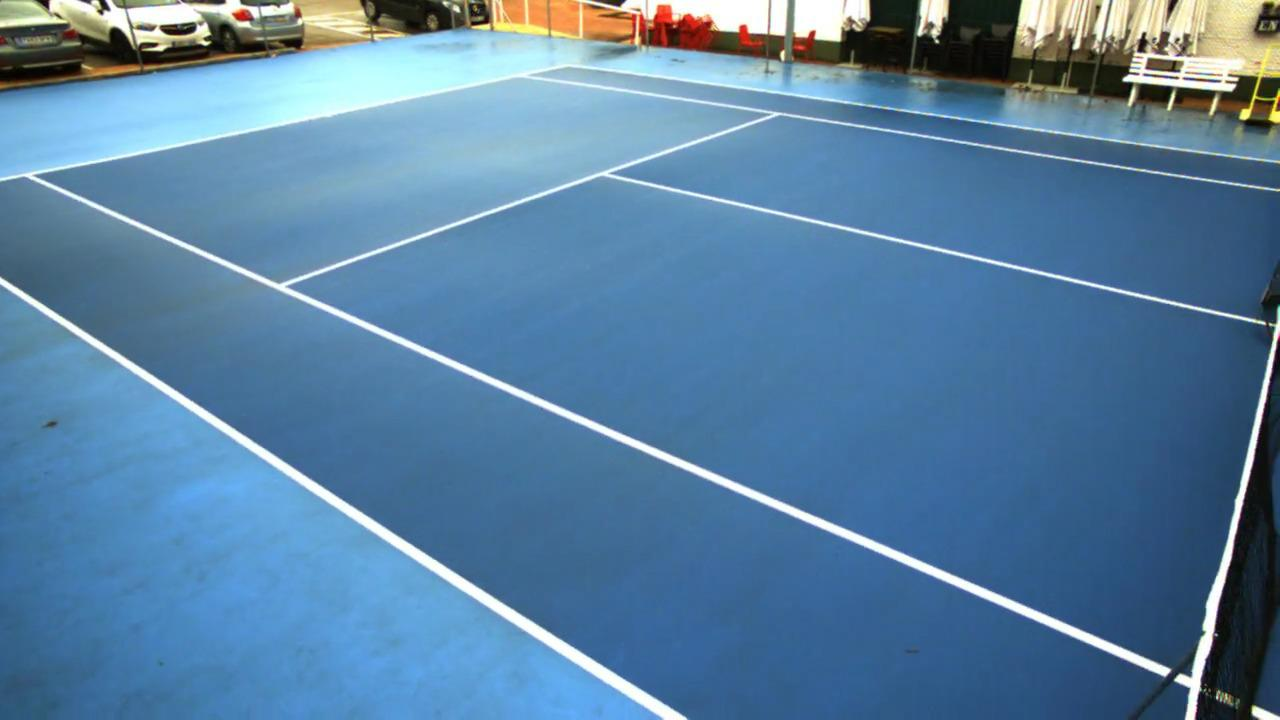cancha_tenis: (30, 73, 1280, 720)
point_f1: (13, 159, 50, 190)
point_f2: (511, 65, 535, 88)
point_fc1: (319, 106, 342, 124)
point_i1: (258, 267, 303, 305)
point_i2: (763, 103, 788, 125)
point_ic1: (587, 159, 626, 187)
